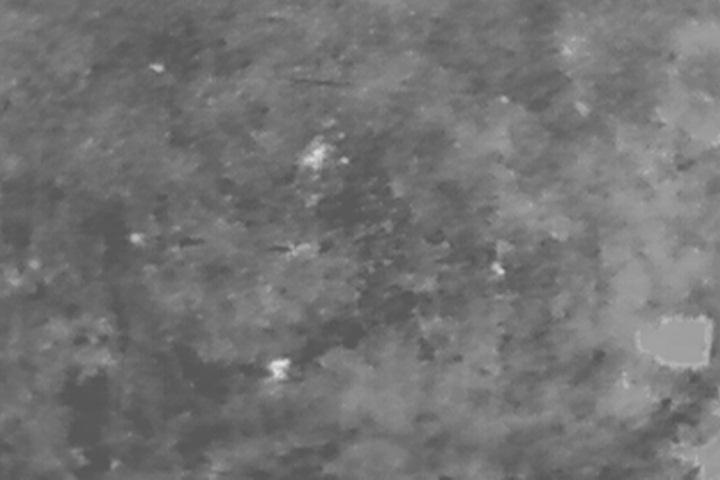landmine: (298, 137, 336, 171)
